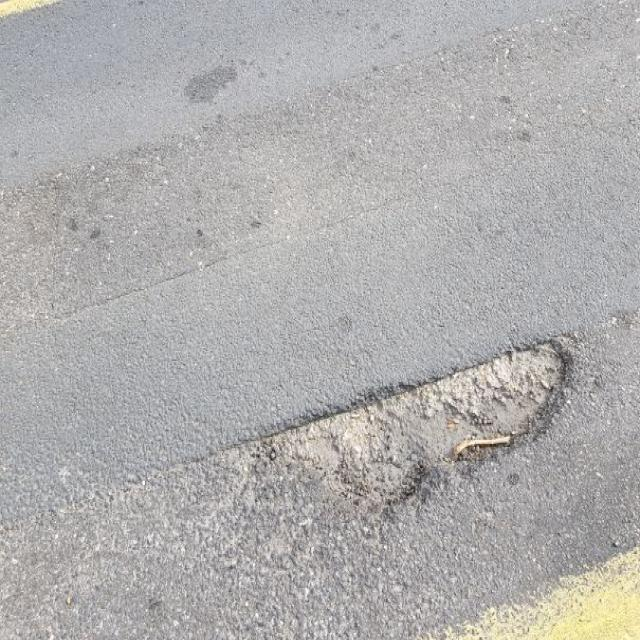pothole: (246, 334, 574, 512)
